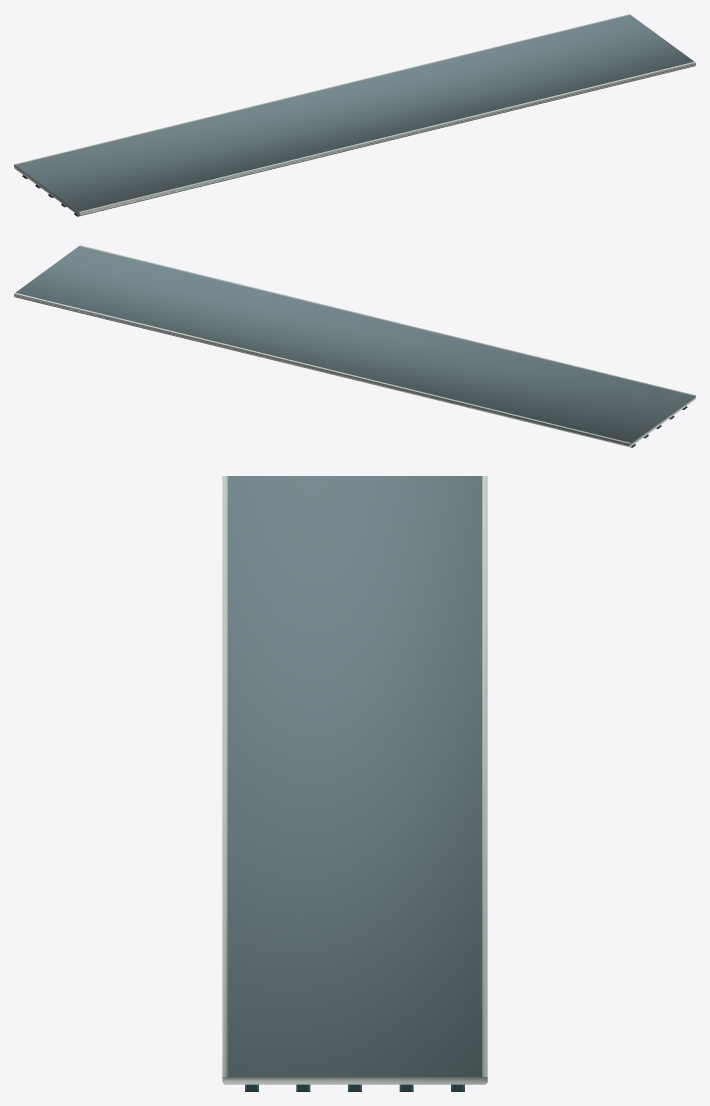
File: city_harbour_bridge_01.glb
The picture shows the model from 3 angles, top to bottom: view 1: azimuth 30°, elevation 25°; view 2: azimuth 150°, elevation 25°; view 3: azimuth 270°, elevation 25°; orthographic projection. The views are drawn at different scales.
Parts seen in each view (by area): view 1: CityHarbourBridge01_Mesh; view 2: CityHarbourBridge01_Mesh; view 3: CityHarbourBridge01_Mesh.
Boxes of the visible parts, x1,y1,x2,y2 form: CityHarbourBridge01_Mesh: (14, 14, 695, 216); CityHarbourBridge01_Mesh: (14, 245, 695, 447); CityHarbourBridge01_Mesh: (222, 476, 487, 1091).
Size of the model in its own units: 91 by 1.25 by 17.
